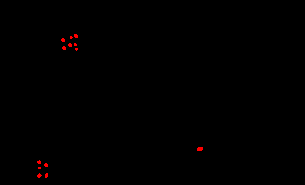Target: (37, 173, 42, 178), (197, 147, 203, 151), (74, 34, 78, 38), (61, 38, 65, 42), (68, 43, 72, 47), (62, 46, 66, 50), (37, 160, 41, 164), (44, 163, 48, 167), (45, 173, 48, 178), (70, 36, 73, 39), (74, 43, 77, 46), (75, 48, 78, 51), (38, 167, 41, 169)
